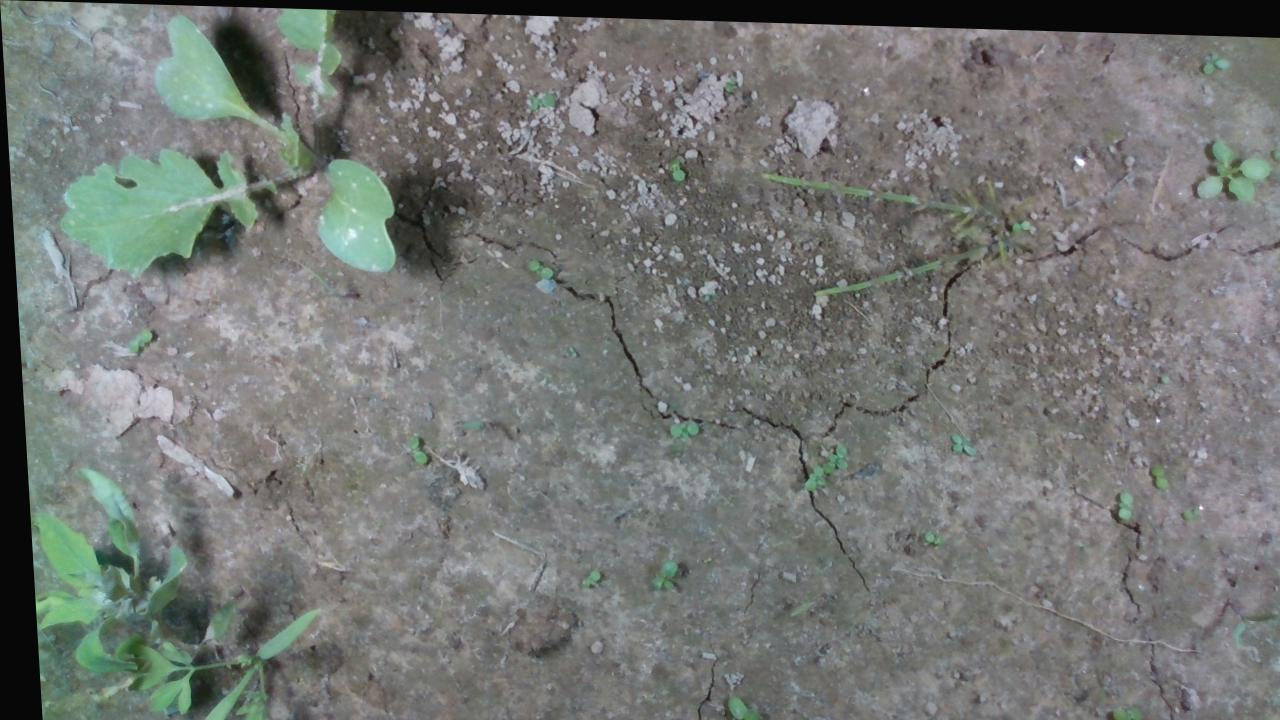weed: (517, 251, 552, 284), (1199, 41, 1228, 76), (396, 430, 423, 465), (662, 152, 694, 179), (1104, 480, 1127, 516), (944, 425, 969, 451), (666, 411, 688, 439), (1141, 457, 1163, 483), (572, 562, 596, 585)
